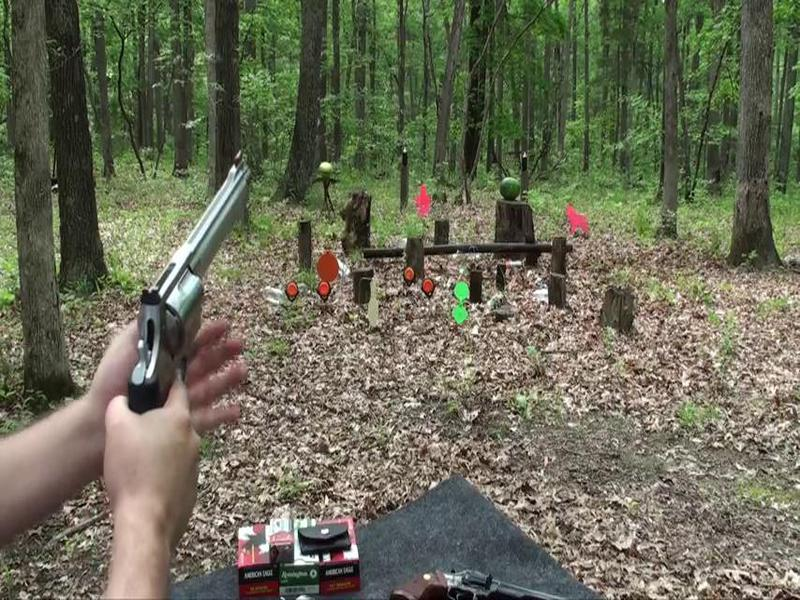Revolver: (126, 141, 257, 406)
